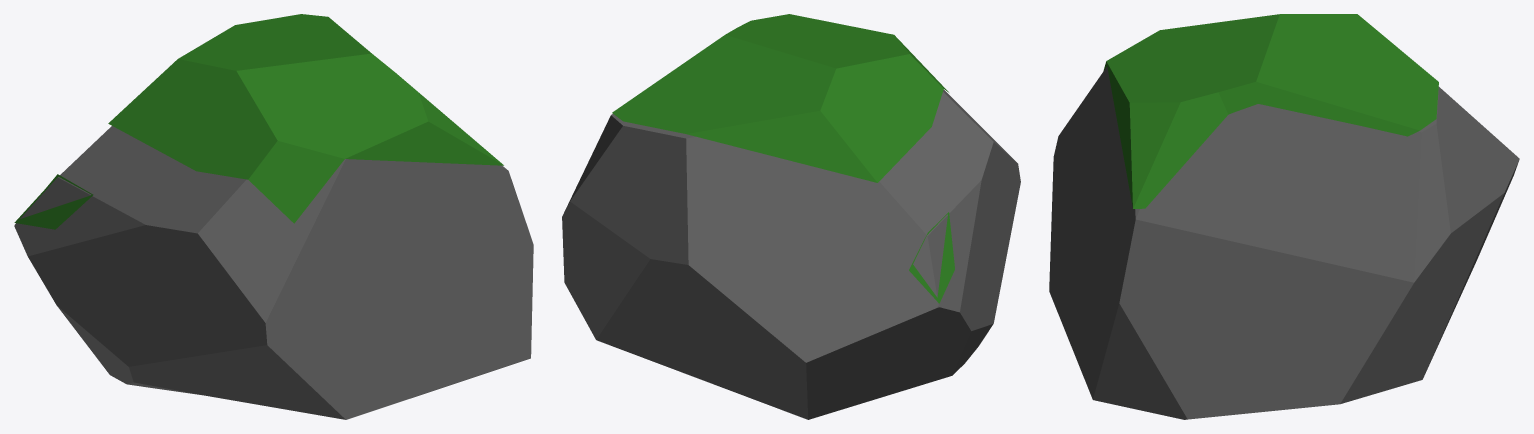
Rendered from MossyRock2.fbx.
3 renders of one model, left to right at view 1: azimuth 30°, elevation 25°; view 2: azimuth 150°, elevation 25°; view 3: azimuth 270°, elevation 25°, orthographic. The views are drawn at different scales.
Visible parts, largest first — view 1: Sphere, Sphere.001; view 2: Sphere, Sphere.001; view 3: Sphere, Sphere.001.
Part boxes in pixels (x1,y1,x2,y2): Sphere: (14, 126, 533, 419); Sphere.001: (14, 14, 503, 229); Sphere: (562, 89, 1020, 419); Sphere.001: (612, 14, 954, 303); Sphere: (1049, 66, 1519, 419); Sphere.001: (1103, 14, 1438, 208).
Size of the model in its own units: 595 by 382 by 565.
